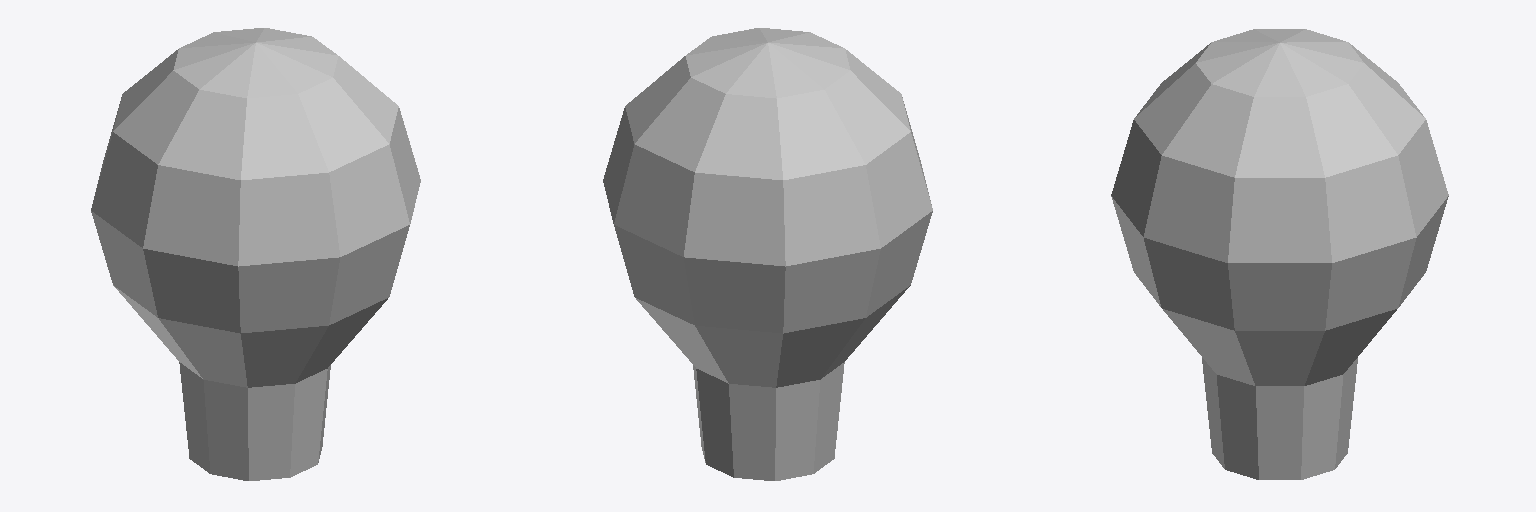
File: light_model.obj
3 views of the same model, side by side, from view 1: azimuth 30°, elevation 25°; view 2: azimuth 150°, elevation 25°; view 3: azimuth 270°, elevation 25° (orthographic).
Parts seen in each view (by area): view 1: light_model; view 2: light_model; view 3: light_model.
Boxes of the visible parts, x1=… form: light_model: x1=91, y1=28, x2=420, y2=480; light_model: x1=603, y1=28, x2=932, y2=480; light_model: x1=1111, y1=29, x2=1448, y2=479.
Size of the model in its own units: 1.9 by 2.79 by 2.